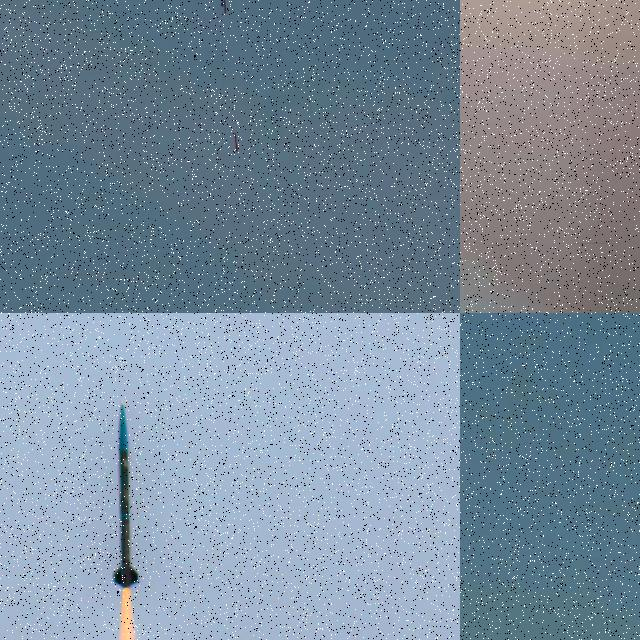Rocket: (106, 401, 142, 592), (235, 133, 238, 152)
